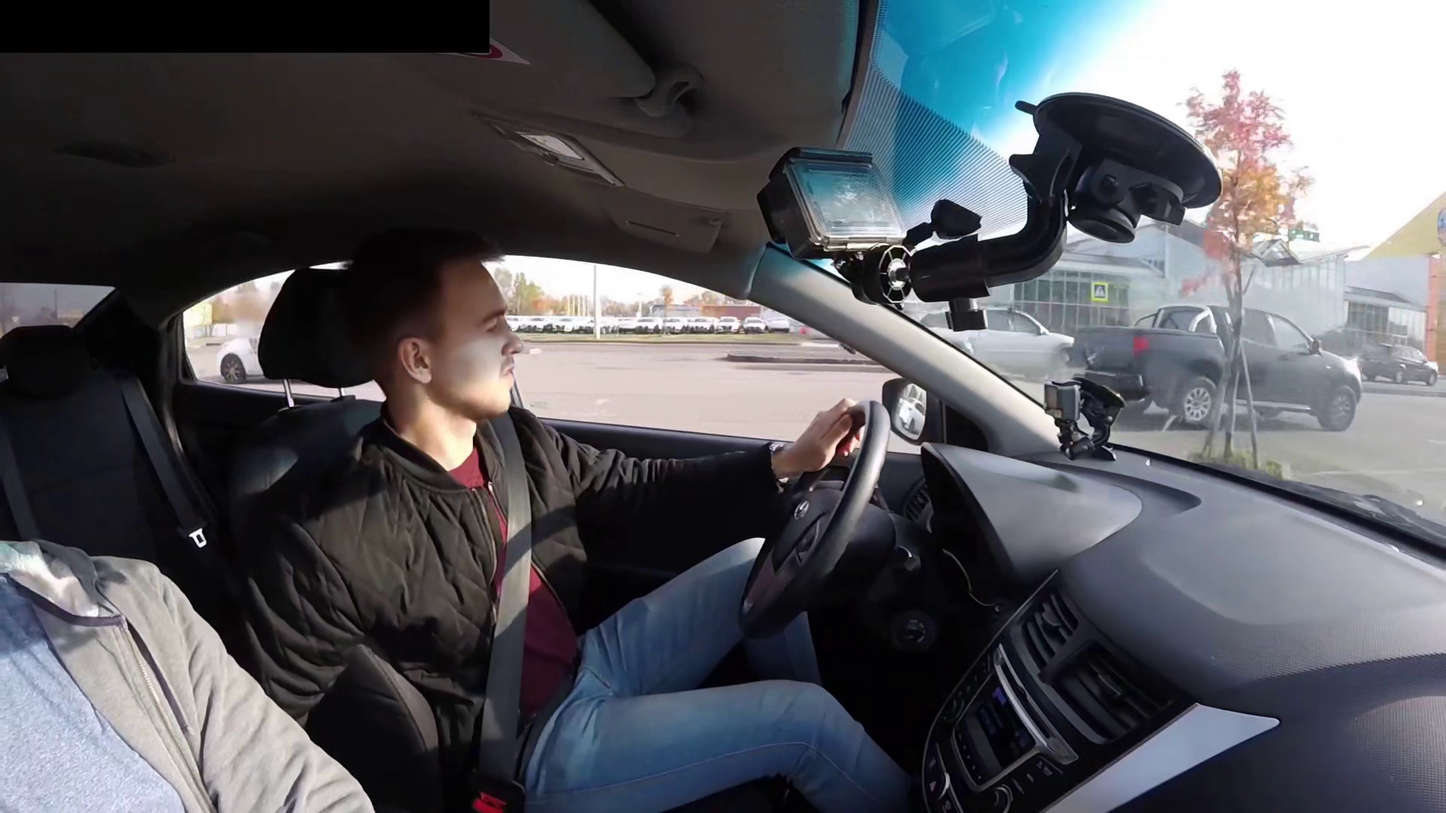bus: (35, 248, 1222, 785)
